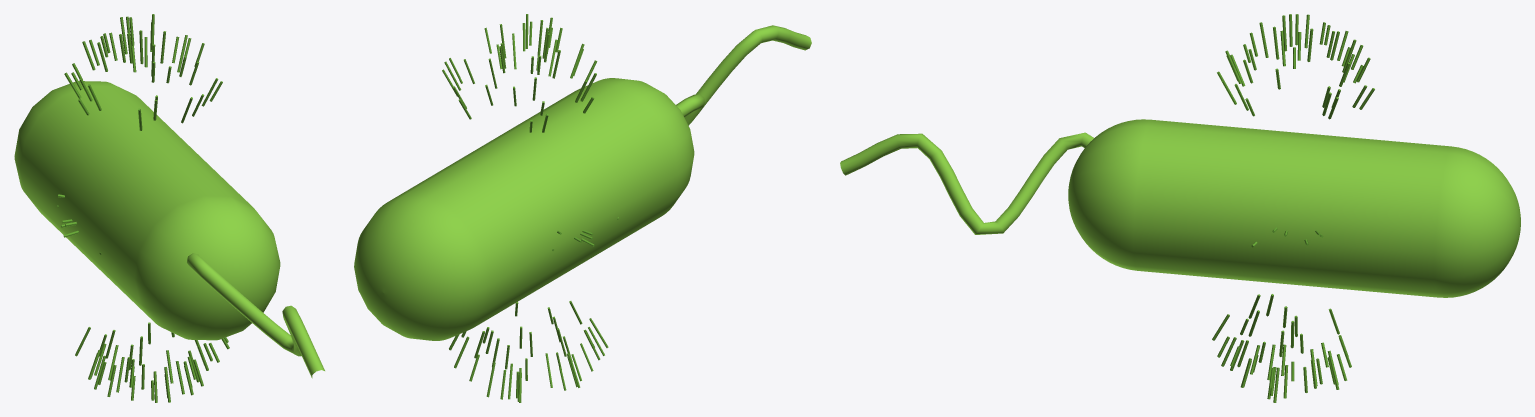
File: bacteria_model.glb
3 views of the same model, side by side, from view 1: azimuth 30°, elevation 25°; view 2: azimuth 150°, elevation 25°; view 3: azimuth 270°, elevation 25° (orthographic).
Bounding box in the file's own units: 2.55 × 5.38 × 8.96.
